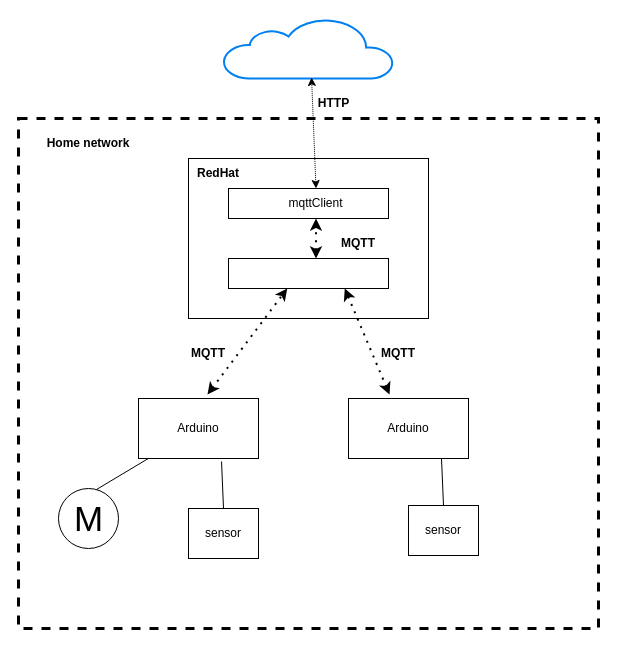
This 617x647 diagram has some shape labels left out. The shapes that lost their labels are listed below. From the top down, each one's box as (x1, y1, x2, y2) in pixels, then its label:
(222, 17, 394, 79): Internet
(228, 258, 388, 288): Broker
